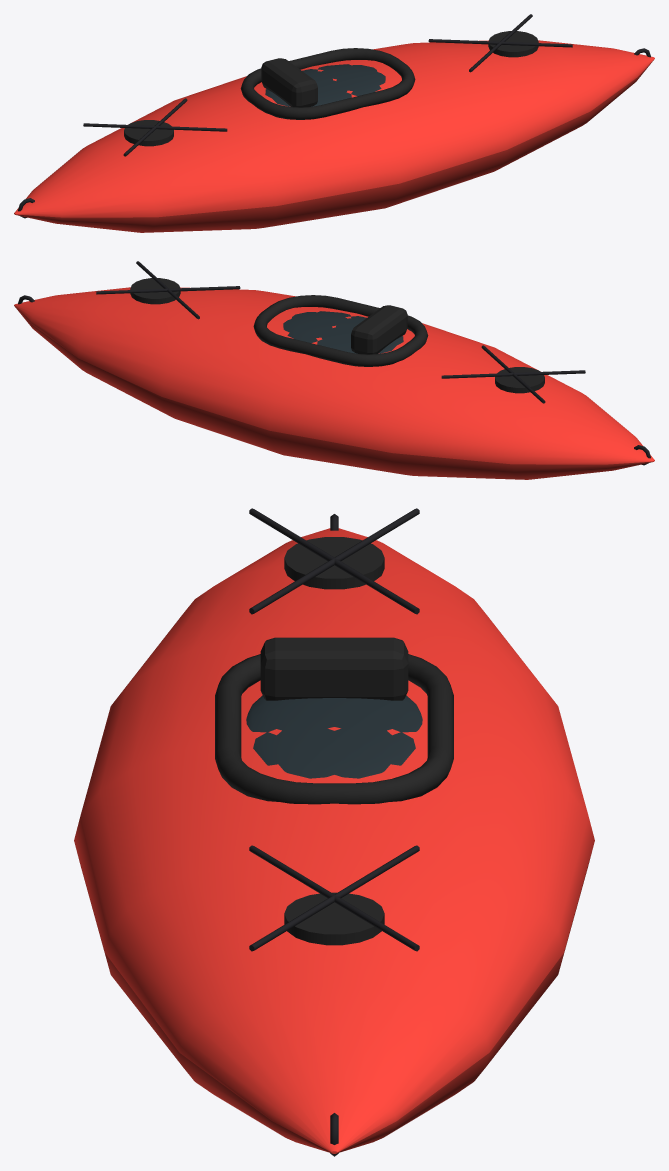
Rendered from kayak.fbx.
The picture shows the model from 3 angles, top to bottom: view 1: azimuth 30°, elevation 25°; view 2: azimuth 150°, elevation 25°; view 3: azimuth 270°, elevation 25°; orthographic projection. The views are drawn at different scales.
Parts seen in each view (by area): view 1: Kayak; view 2: Kayak; view 3: Kayak.
Boxes of the visible parts, x1,y1,x2,y2 form: Kayak: (14, 14, 654, 232); Kayak: (14, 261, 654, 479); Kayak: (74, 508, 594, 1156).
Size of the model in its own units: 5 by 0.99 by 1.76.
